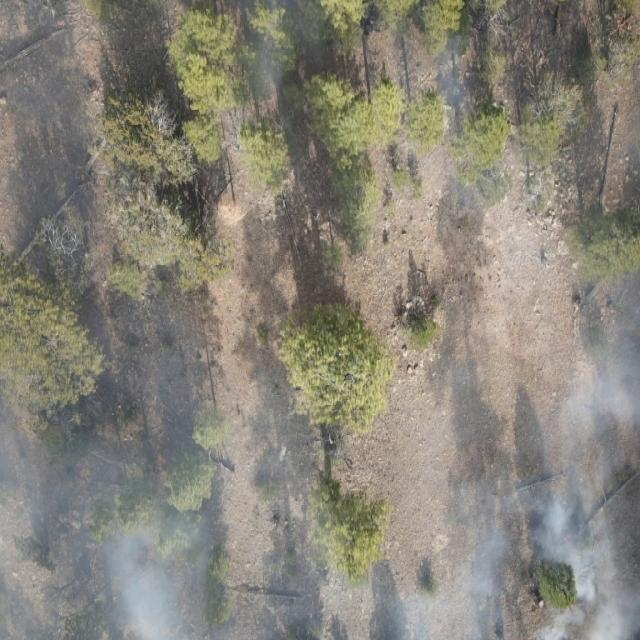fire: (560, 530, 576, 545)
smoke: (0, 267, 301, 640), (301, 459, 640, 640), (0, 0, 334, 122), (425, 28, 535, 227), (545, 265, 640, 459)
